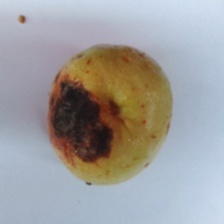guava: (27, 8, 164, 208)
